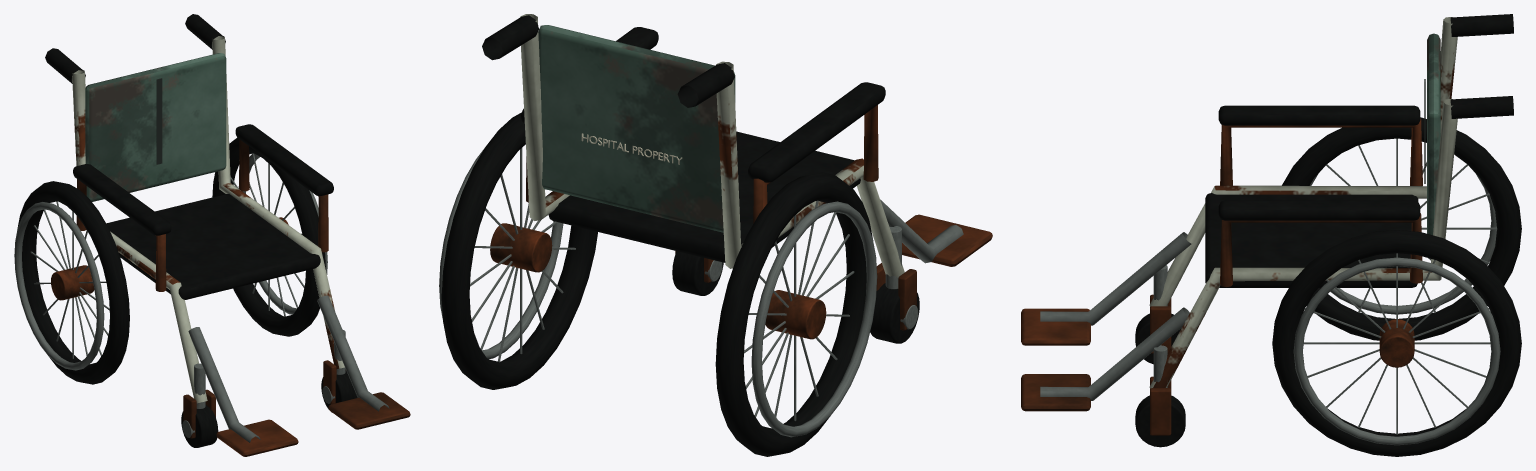
The model's file is wheelchair.glb.
3 renders of one model, left to right at view 1: azimuth 30°, elevation 25°; view 2: azimuth 150°, elevation 25°; view 3: azimuth 270°, elevation 25°, orthographic. The views are drawn at different scales.
Visible parts, largest first — view 1: Back upholstery, Sagged seat upholstery, Wheelchair rear tyre, Wheelchair rear tyre.001, Wheelchair tubular frame, Wheelchair push rim, Wheelchair tubular frame.001, Worn arm pad, Worn arm pad.001, Wheelchair footplate.001, Wheelchair footplate, Foot support.001 (+13 smaller); view 2: Back upholstery, Wheelchair rear tyre, Wheelchair rear tyre.001, Sagged seat upholstery, Wheelchair push rim, Wheelchair tubular frame, Worn arm pad, Wheelchair tubular frame.001, Wheelchair axle hub.001, Wheelchair push rim.001, Wheelchair axle hub, Wheelchair footplate (+8 smaller); view 3: Wheelchair rear tyre.001, Wheelchair rear tyre, Sagged seat upholstery, Wheelchair tubular frame.001, Wheelchair push rim.001, Wheelchair tubular frame, Worn arm pad, Worn arm pad.001, Back upholstery, Foot support, Foot support.001, Wheelchair footplate (+10 smaller).
Part boxes in pixels (left/top/right/bottom): Back upholstery: left=85, top=53, right=226, bottom=201; Sagged seat upholstery: left=106, top=194, right=320, bottom=299; Wheelchair rear tyre: left=17, top=181, right=129, bottom=384; Wheelchair rear tyre.001: left=212, top=137, right=325, bottom=336; Wheelchair tubular frame: left=72, top=70, right=207, bottom=403; Wheelchair push rim: left=14, top=202, right=104, bottom=370; Wheelchair tubular frame.001: left=212, top=36, right=344, bottom=368; Worn arm pad: left=73, top=164, right=171, bottom=235; Worn arm pad.001: left=235, top=124, right=333, bottom=195; Wheelchair footplate.001: left=328, top=392, right=410, bottom=429; Wheelchair footplate: left=216, top=419, right=298, bottom=456; Foot support.001: left=317, top=295, right=389, bottom=411; Back upholstery: left=538, top=25, right=735, bottom=232; Wheelchair rear tyre: left=715, top=172, right=873, bottom=456; Wheelchair rear tyre.001: left=441, top=112, right=597, bottom=389; Sagged seat upholstery: left=548, top=131, right=860, bottom=262; Wheelchair push rim: left=751, top=201, right=877, bottom=437; Wheelchair tubular frame: left=716, top=61, right=904, bottom=277; Worn arm pad: left=748, top=82, right=885, bottom=182; Wheelchair tubular frame.001: left=520, top=14, right=569, bottom=220; Wheelchair axle hub.001: left=490, top=223, right=552, bottom=272; Wheelchair push rim.001: left=439, top=149, right=563, bottom=359; Wheelchair axle hub: left=765, top=290, right=826, bottom=339; Wheelchair footplate: left=902, top=214, right=992, bottom=266; Wheelchair rear tyre.001: left=1272, top=230, right=1521, bottom=456; Wheelchair rear tyre: left=1282, top=117, right=1521, bottom=340; Sagged seat upholstery: left=1205, top=193, right=1418, bottom=287; Wheelchair tubular frame.001: left=1149, top=98, right=1457, bottom=388; Wheelchair push rim.001: left=1293, top=257, right=1500, bottom=445; Wheelchair tubular frame: left=1149, top=17, right=1457, bottom=306; Worn arm pad: left=1218, top=105, right=1420, bottom=125; Worn arm pad.001: left=1218, top=200, right=1420, bottom=220; Back upholstery: left=1427, top=33, right=1440, bottom=235; Foot support: left=1040, top=232, right=1191, bottom=325; Foot support.001: left=1040, top=307, right=1189, bottom=400; Wheelchair footplate: left=1021, top=308, right=1090, bottom=345.
Bounding box in the file's own units: 0.822 × 0.9869 × 1.29.
Materials: 7 (5 with a texture image).
